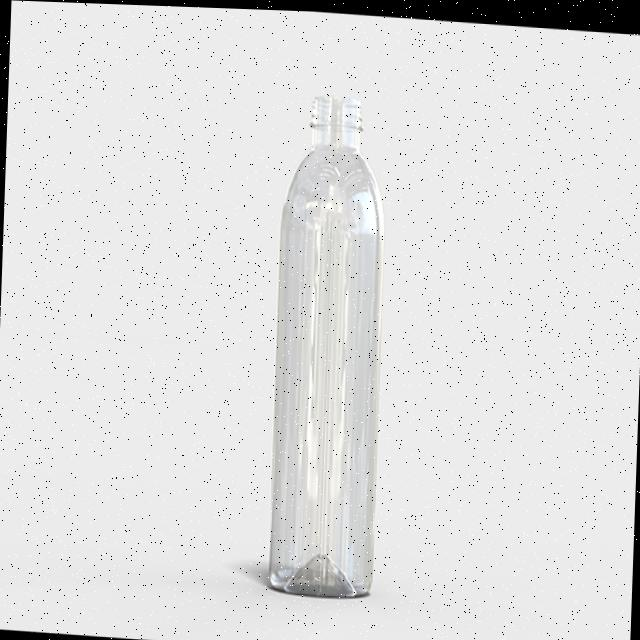bottle: (259, 79, 396, 609)
